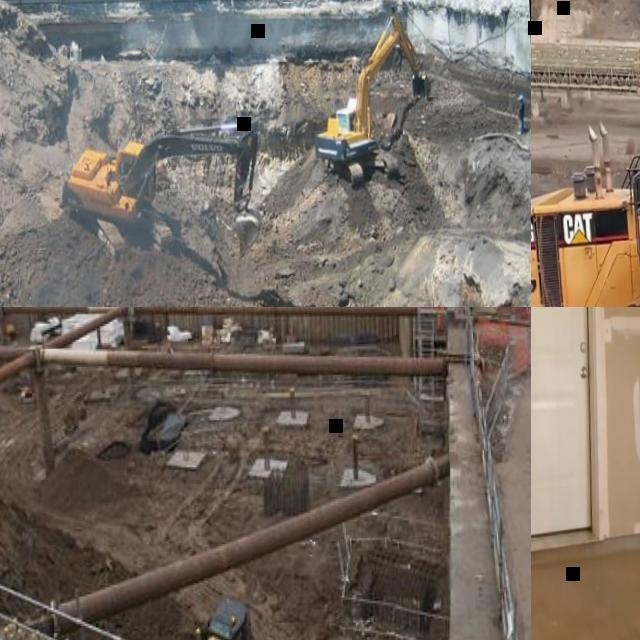NO-Hardhat: (517, 93, 523, 99)
NO-Safety Vest: (519, 100, 525, 119)
Person: (516, 93, 526, 133)
Safety Vest: (434, 307, 447, 333)
machinery: (531, 0, 640, 307), (61, 114, 263, 263), (309, 12, 435, 188), (136, 591, 263, 640)
